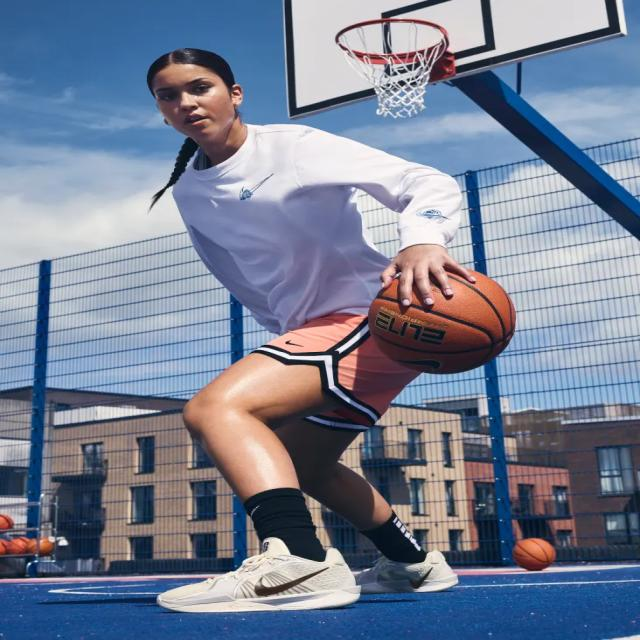basketball: (366, 268, 516, 374), (512, 537, 555, 570)
hoop: (333, 18, 449, 118)
